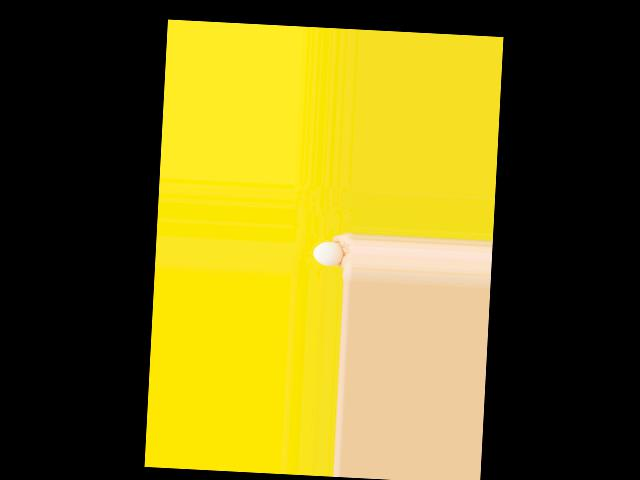egg: (312, 240, 344, 265)
